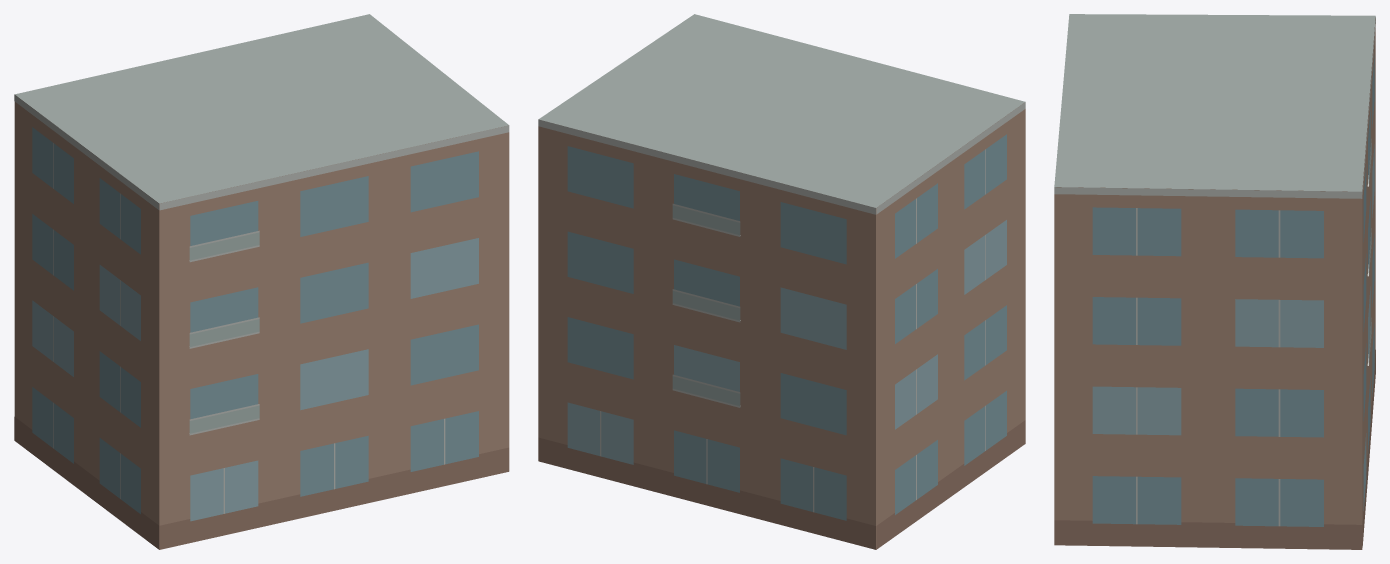
File: survey-upis-32642099.glb
3 renders of one model, left to right at view 1: azimuth 30°, elevation 25°; view 2: azimuth 150°, elevation 25°; view 3: azimuth 270°, elevation 25°, orthographic. The views are drawn at different scales.
Visible parts, largest first — view 1: survey-upis-32642099.tmp; view 2: survey-upis-32642099.tmp; view 3: survey-upis-32642099.tmp.
Part boxes in pixels (x1,y1,x2,y2): survey-upis-32642099.tmp: (14, 14, 509, 549); survey-upis-32642099.tmp: (538, 14, 1025, 549); survey-upis-32642099.tmp: (1054, 14, 1375, 549).
Bounding box in the file's own units: 12.99 × 12.2 × 9.93.
